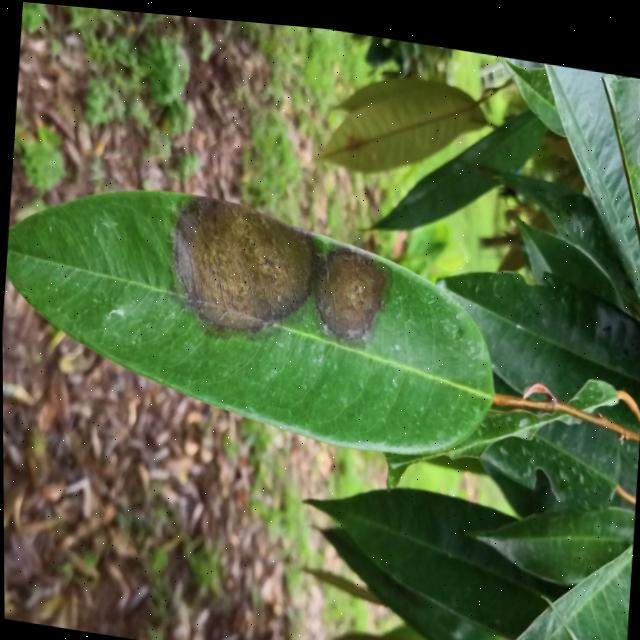Phytophthora: (138, 173, 316, 364), (299, 235, 413, 364)
